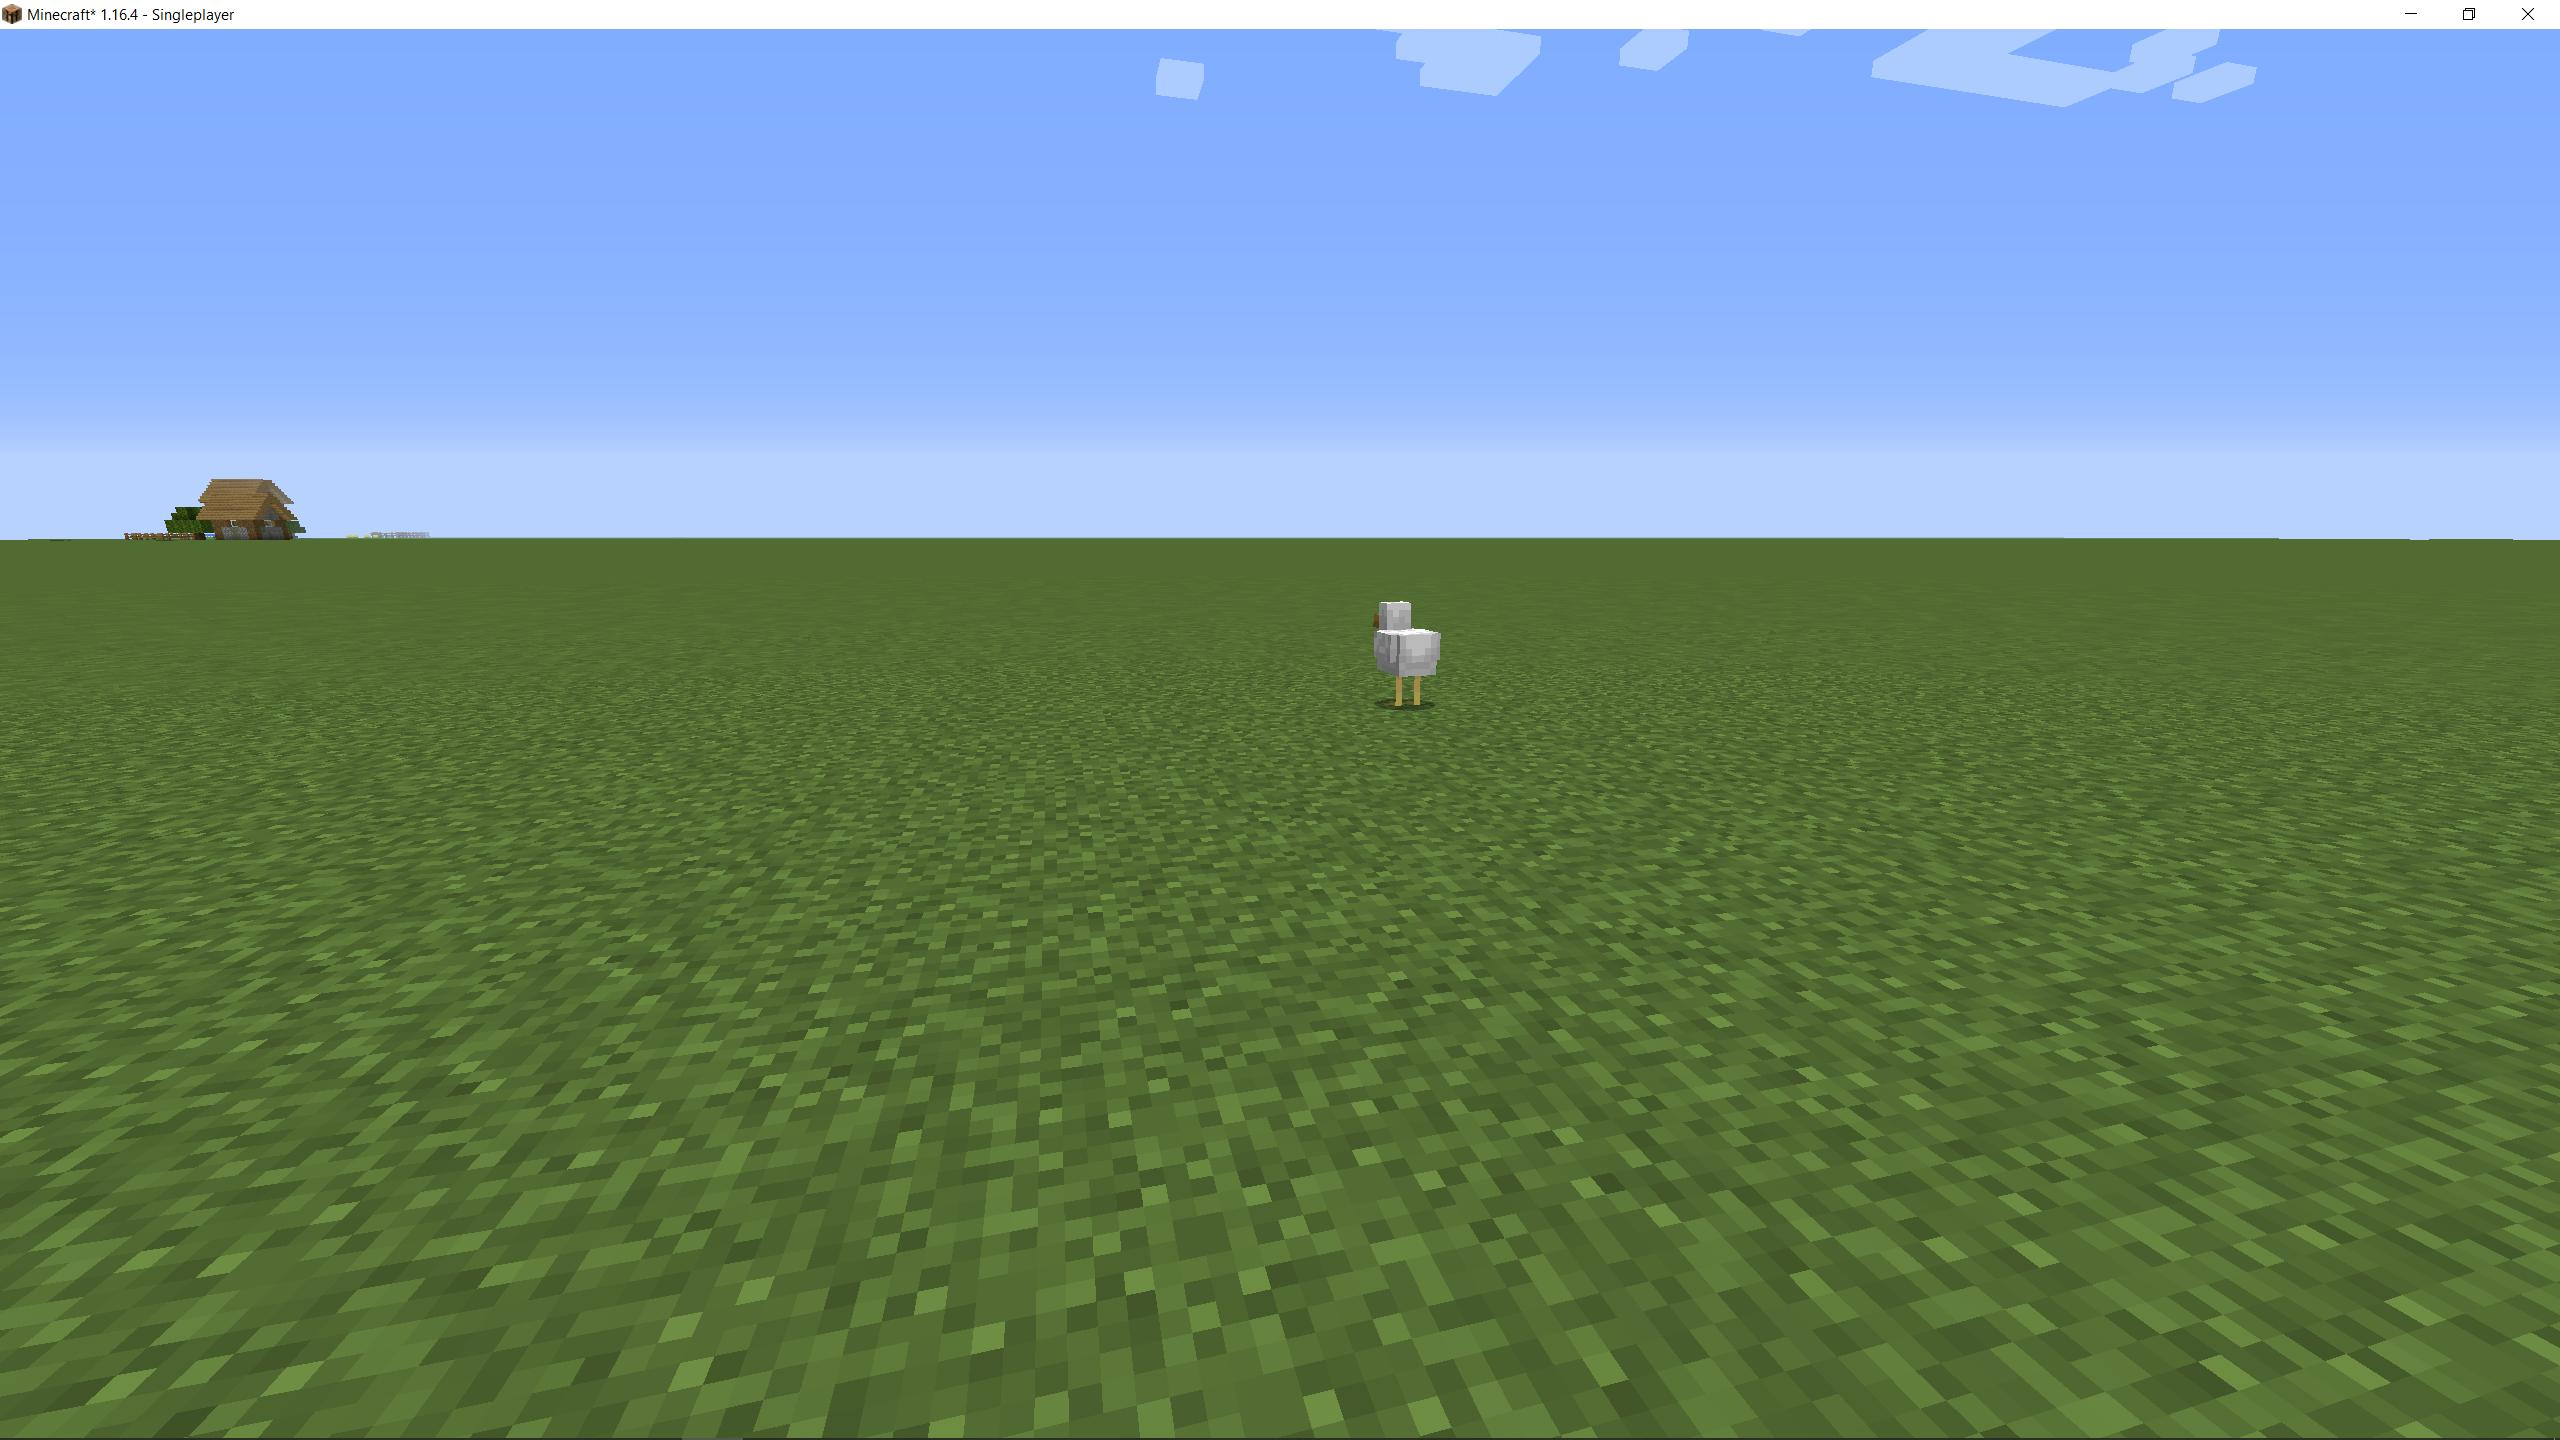chicken: (1363, 594, 1444, 721)
